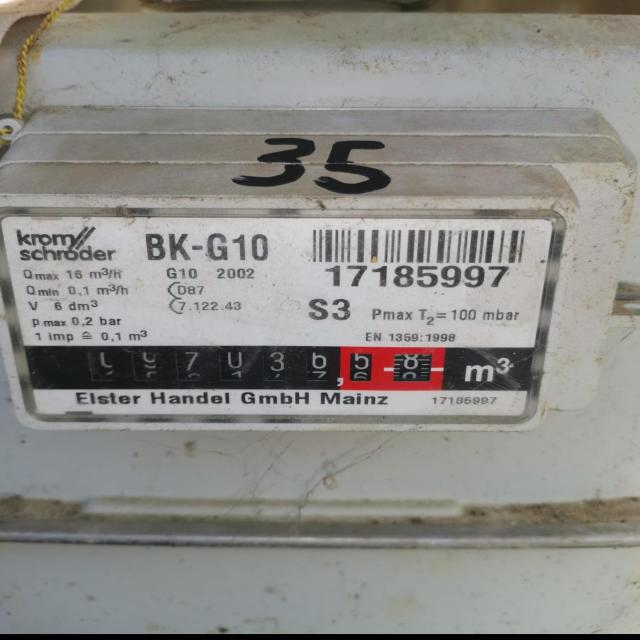gaz_meter: (0, 212, 550, 430)
indication: (85, 342, 442, 385)
